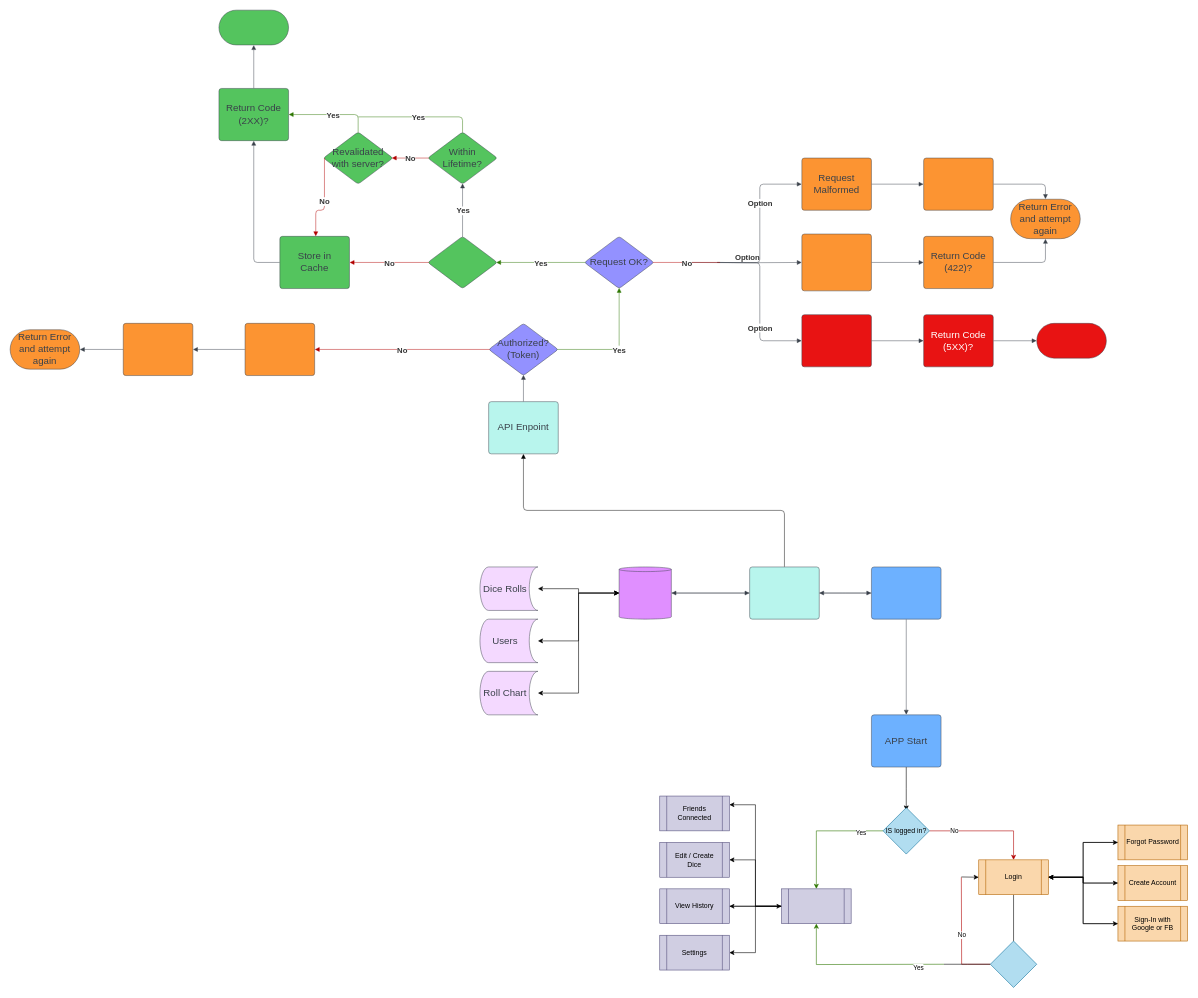
Image size: 1198x998. Some labels were removed from this diagram. The shapes that lost their labels are listed below. From the top down, each one's box as (x1, y1, x2, y2) in pixels, then its label:
(218, 10, 288, 45): Request Complete
(923, 158, 993, 210): Return Code (400)?
(427, 236, 497, 288): Cached?
(801, 234, 871, 291): Invalid or missing Query parameter
(123, 323, 193, 375): Return Code (403)?
(245, 323, 315, 375): API Key/Token Invalid
(801, 314, 871, 367): Something wrong (Temp. Issue)
(1036, 323, 1106, 358): Try Again or submit report
(619, 566, 671, 619): Database
(749, 566, 819, 619): API
(871, 566, 941, 619): APP
(781, 888, 851, 924): Home
(990, 940, 1037, 987): Login In Success
